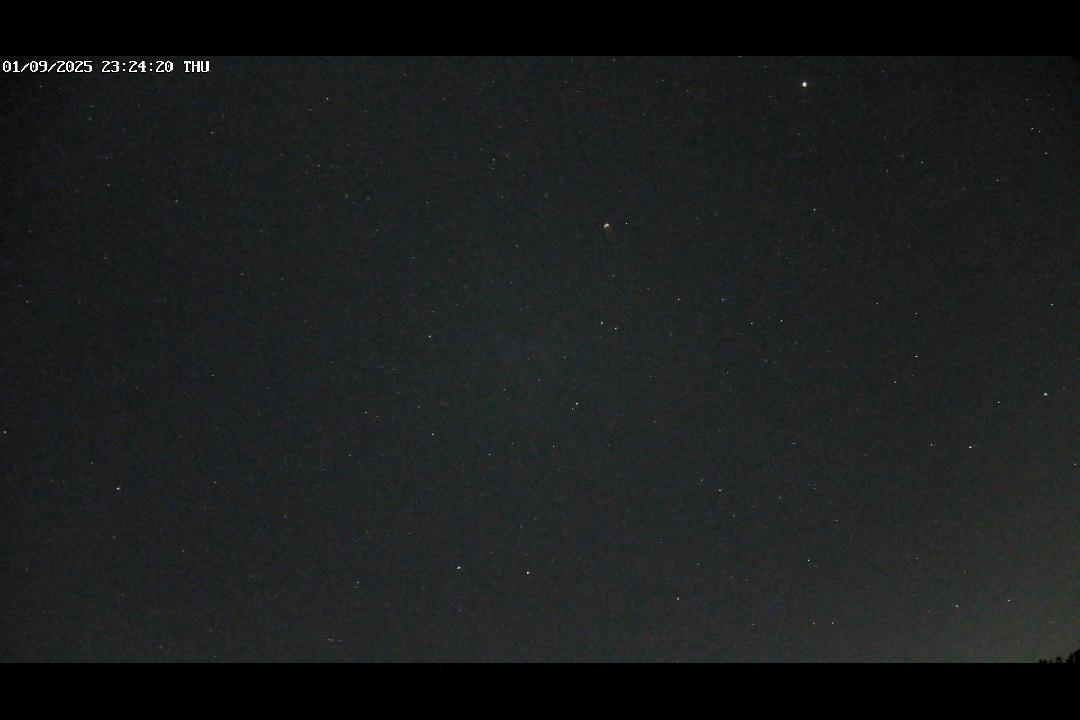Plane: (598, 218, 624, 249)
